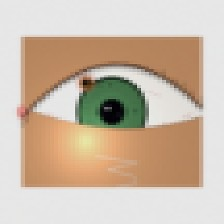foreign_body_visible: (63, 65, 109, 101)
